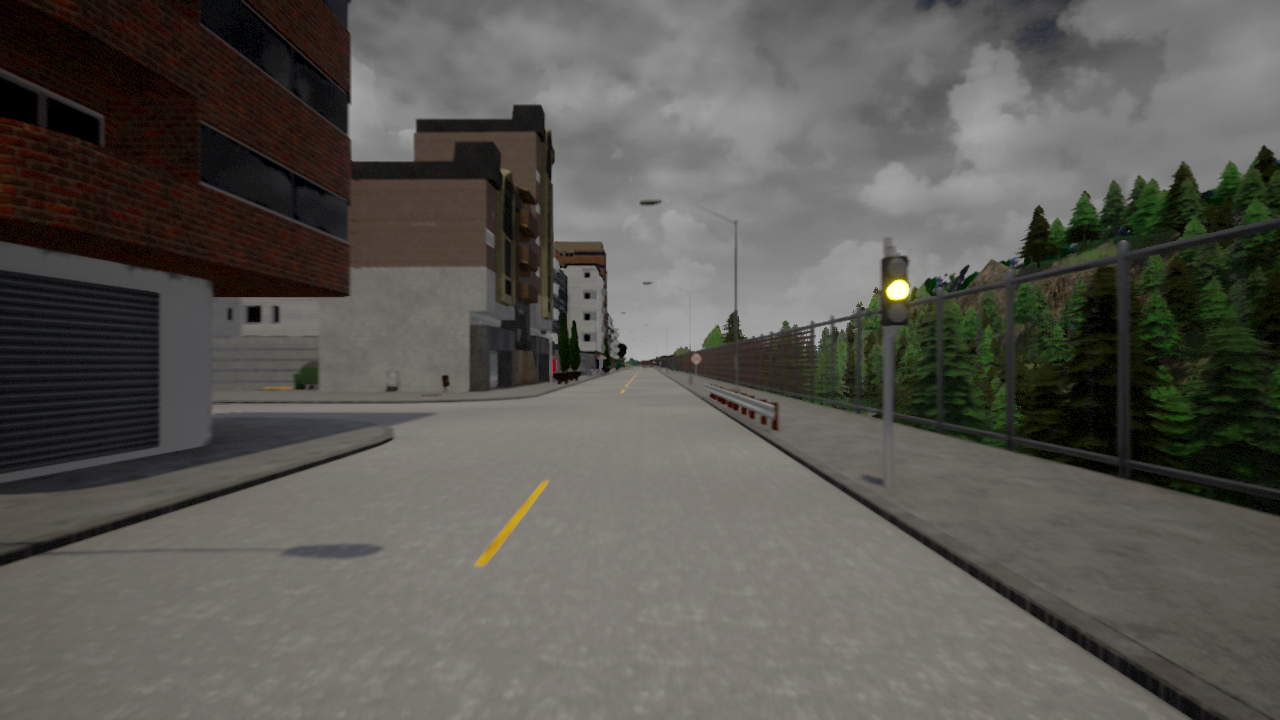yellow: (879, 252, 911, 326)
